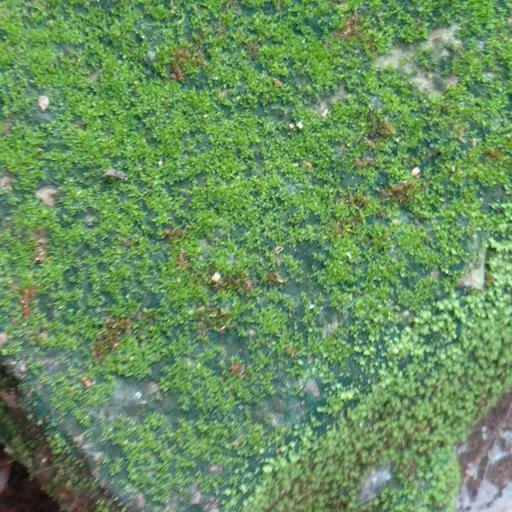algae: (5, 0, 508, 512)
